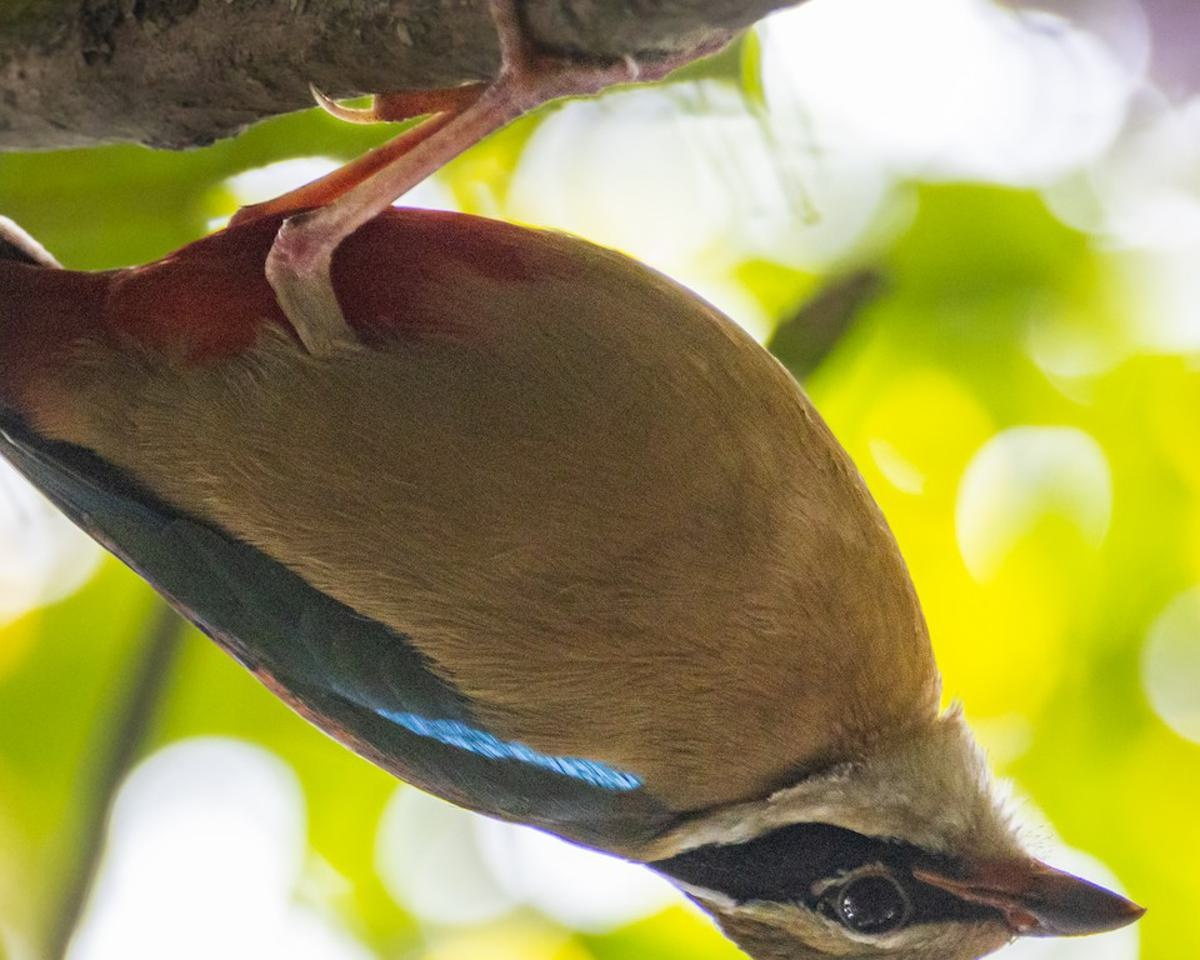pitta: (2, 74, 1158, 960)
